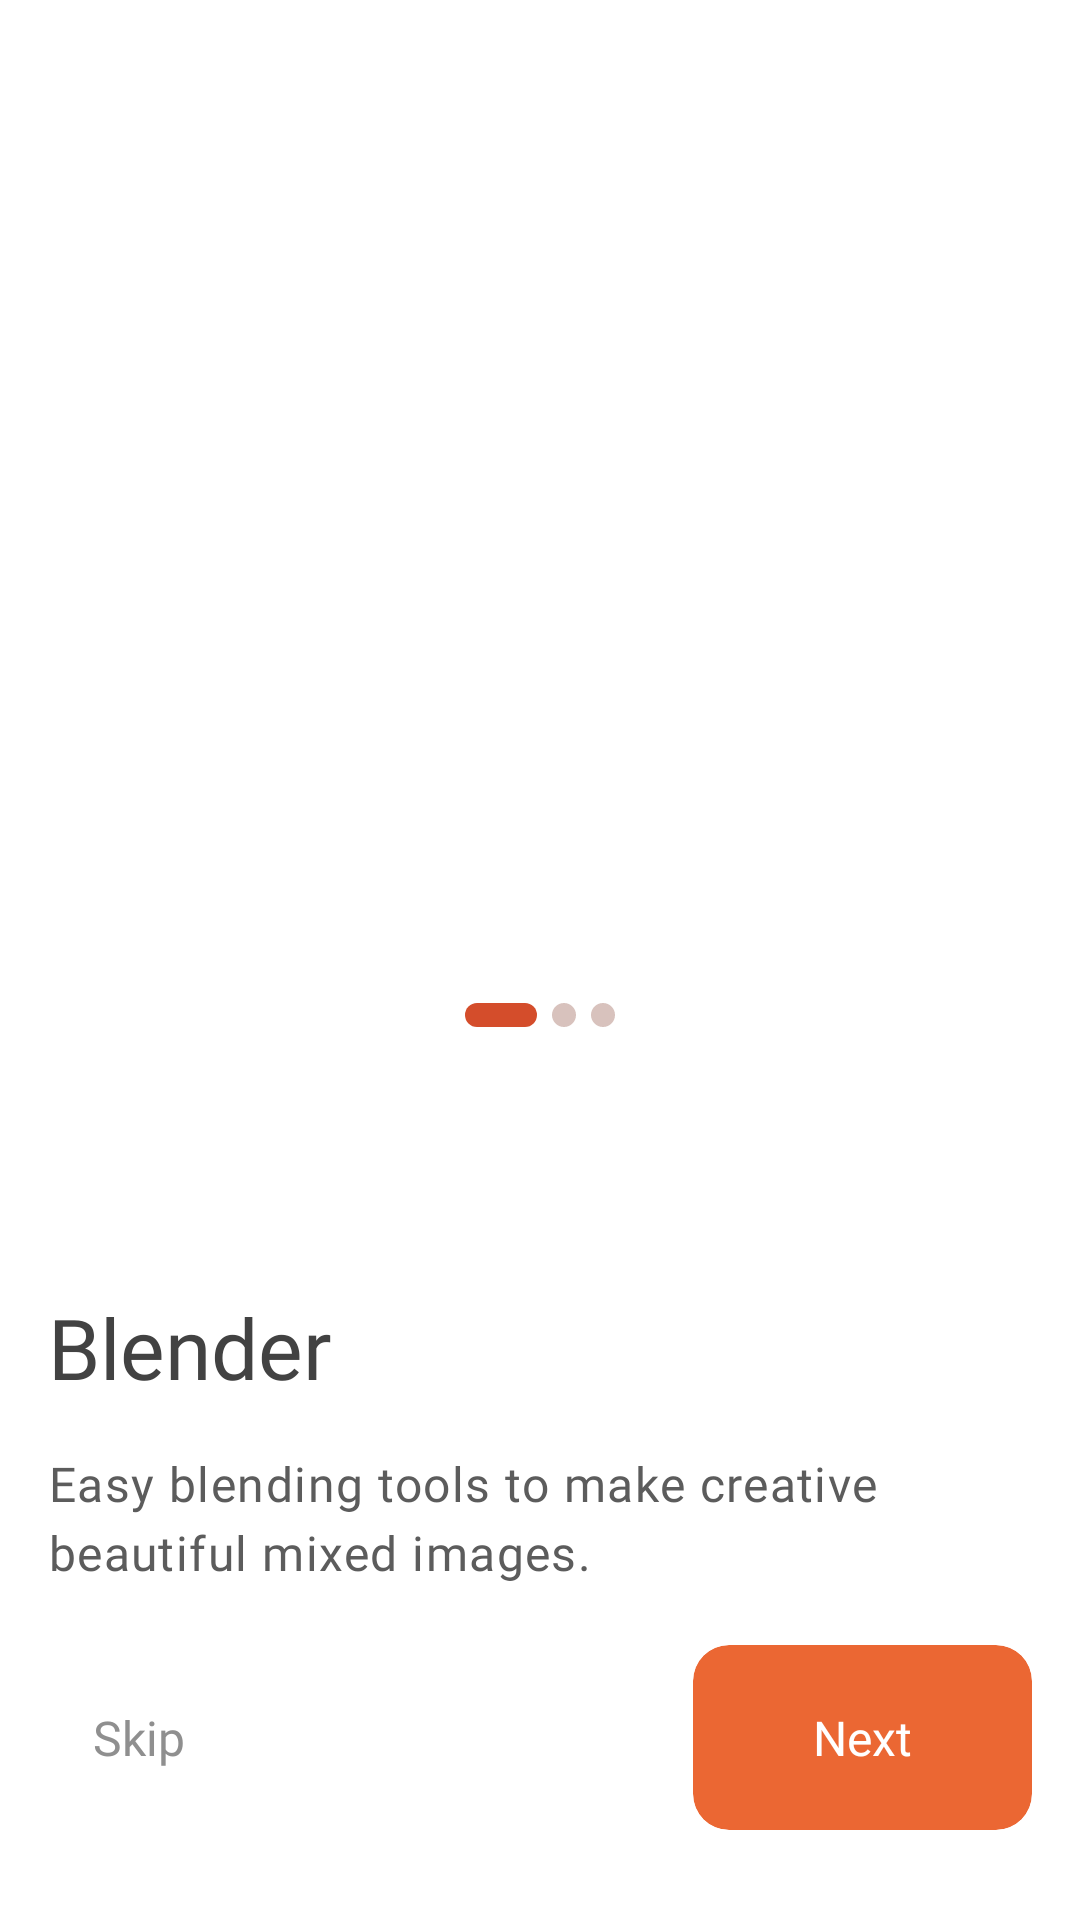

Named icons in this screenshot (1080x1920) and their centers, point (x, y):
dot: point (501, 1015)
dot not select: point (564, 1015), point (603, 1015)
